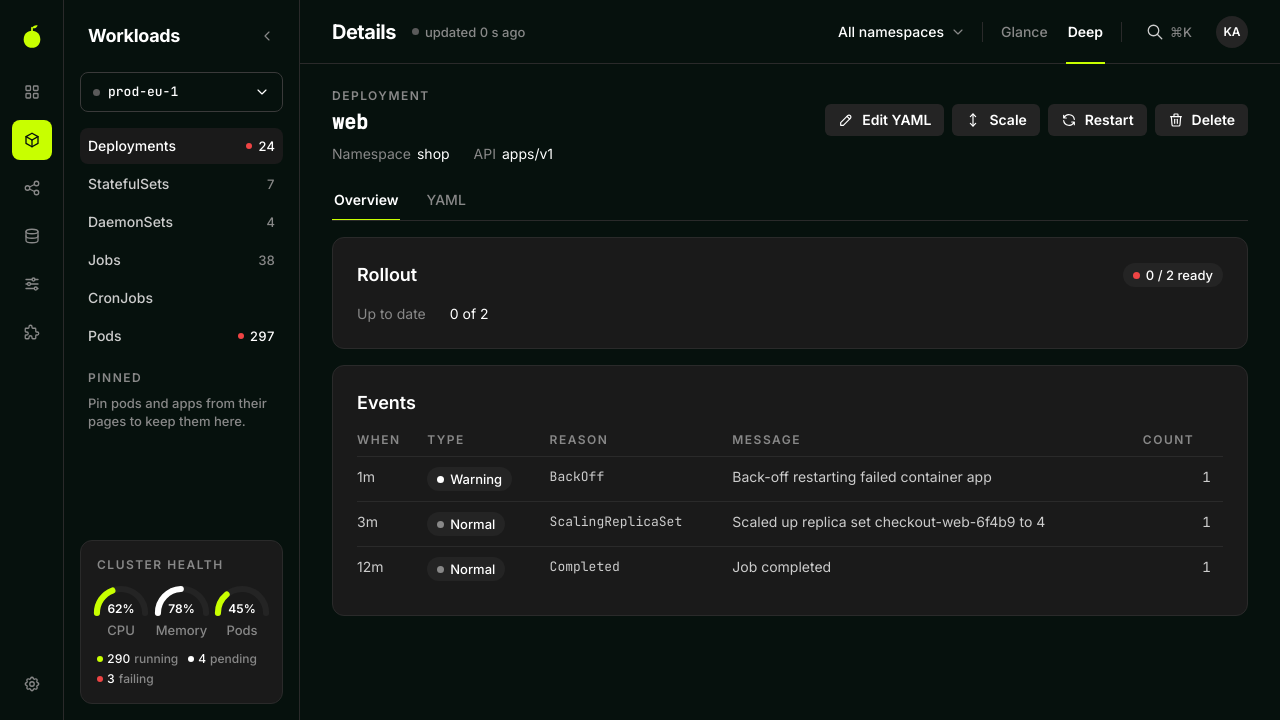
resource actions › deletes only after the name is typed, then goes to the list
Click the button "Delete": (1201, 120) [1155,104,1248,136]
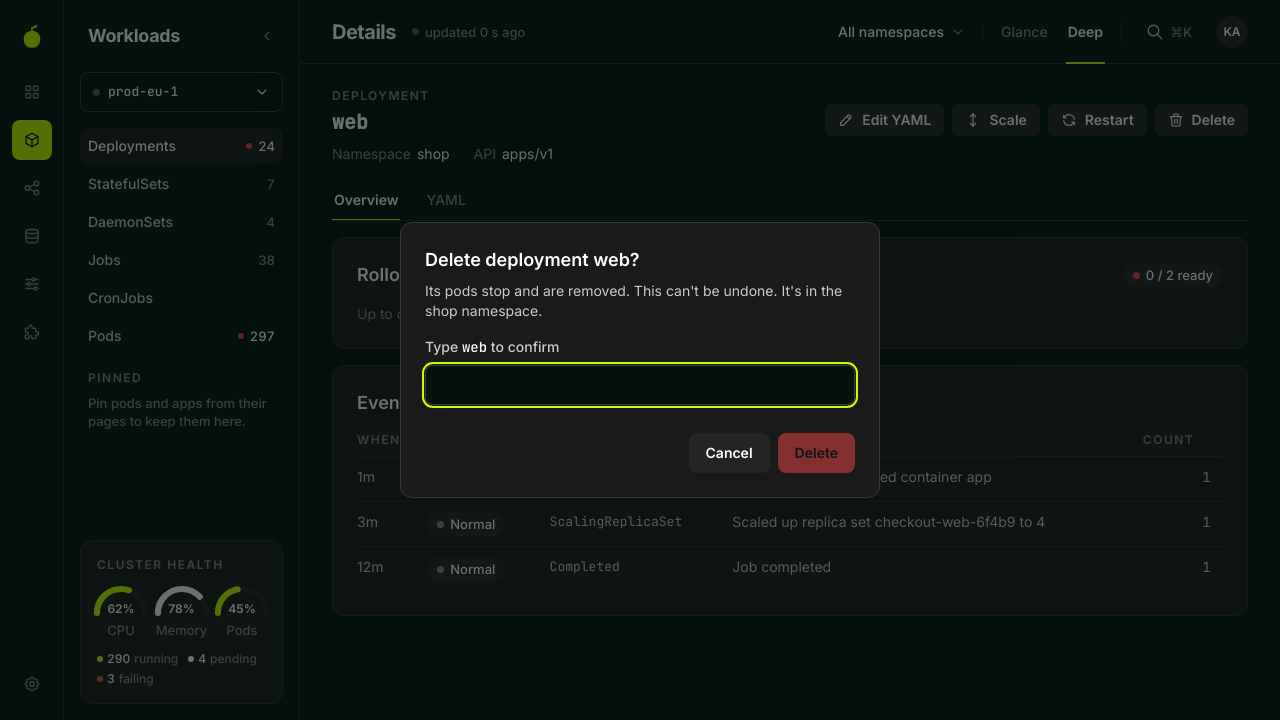
Check: the button "Delete" below "to confirm" is disabled, box [778,433,855,473]
In the field labelled "Type web to confirm": (640, 385) [425,365,855,405], type "we"
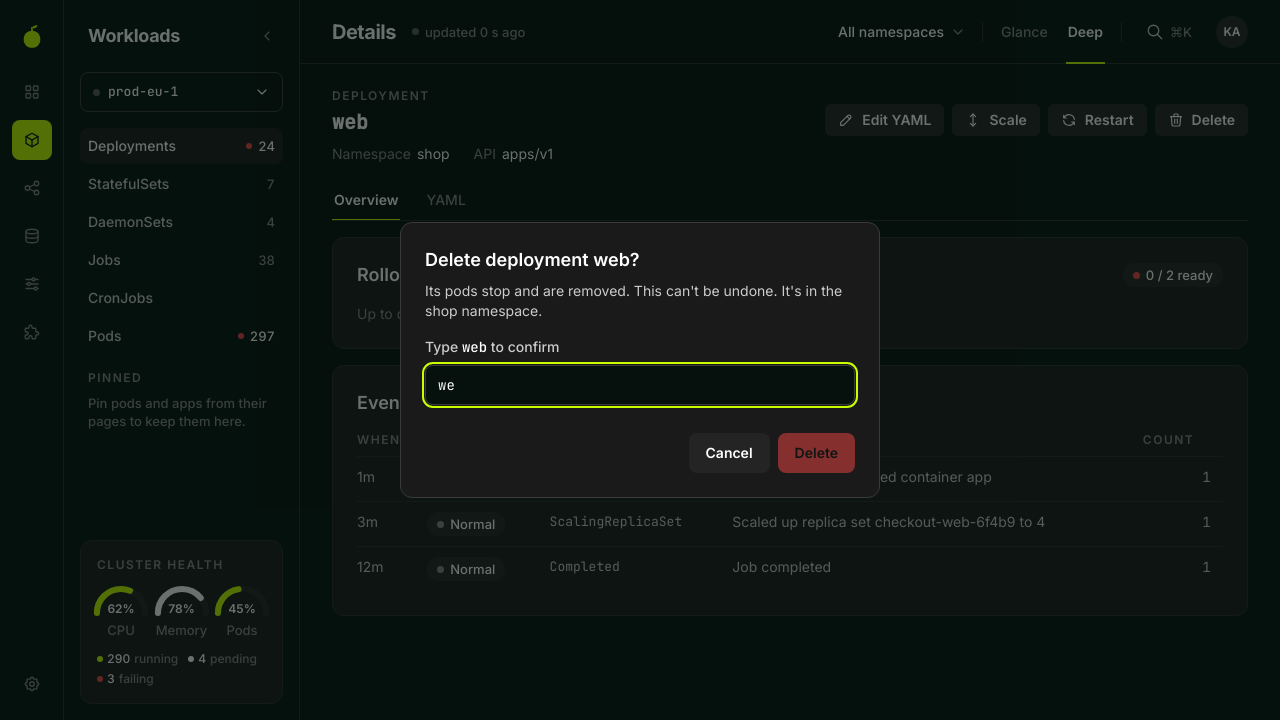
Check: the button "Delete" below "to confirm" is disabled, box [778,433,855,473]
In the field labelled "Type web to confirm": (640, 385) [425,365,855,405], type "b"
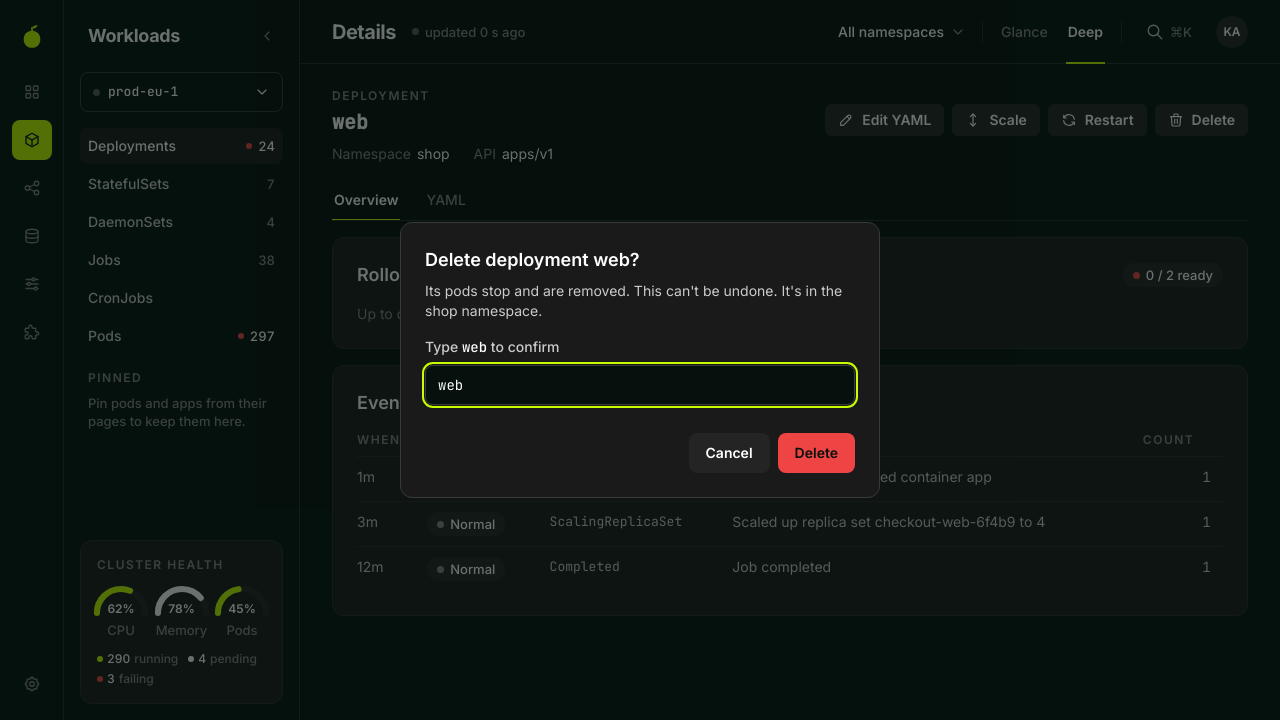
Click the button "Delete" below "to confirm": (816, 453) [778,433,855,473]
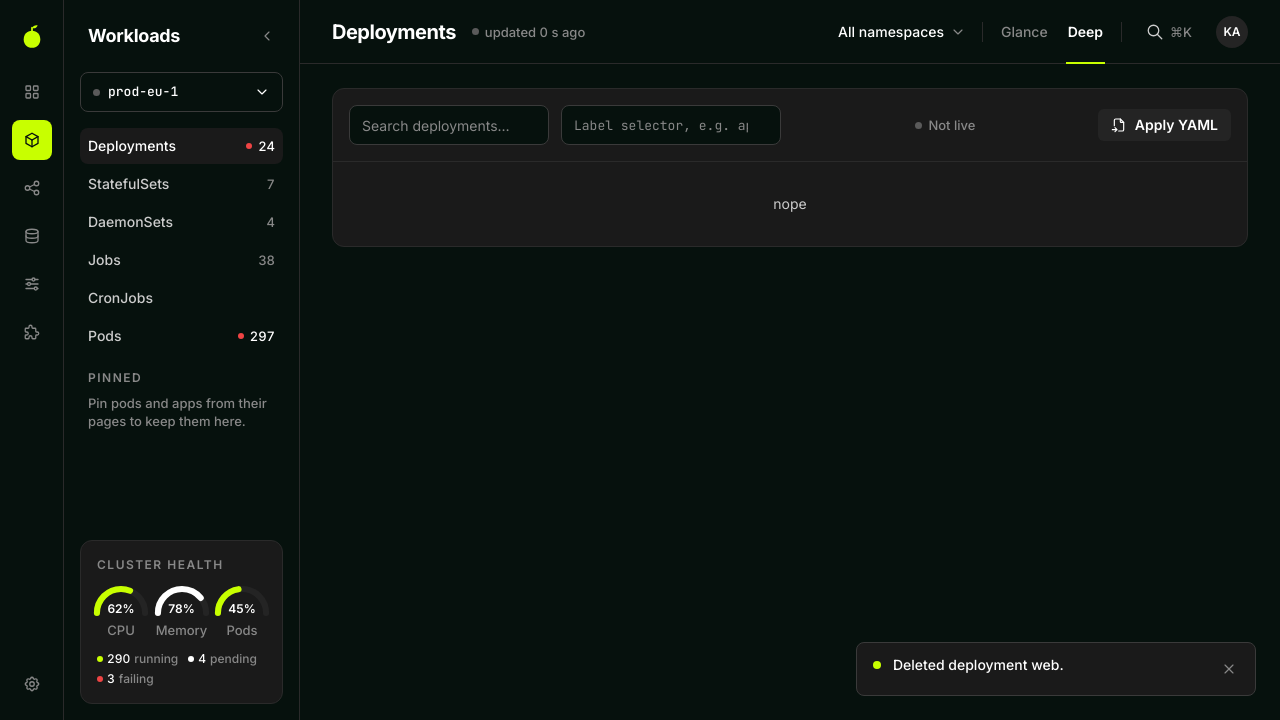
Check: the text "Deleted deployment web." is shown, box [893,656,1064,673]
